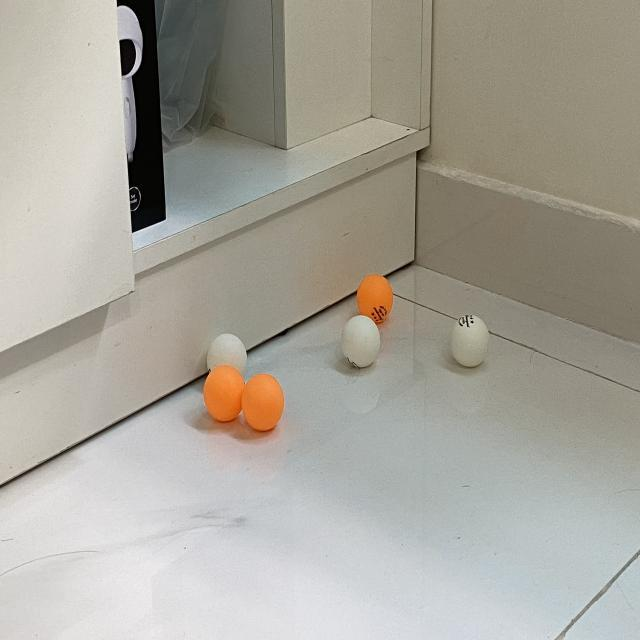ping-pong-ball: (240, 373, 286, 431), (204, 366, 246, 422), (342, 315, 382, 368), (452, 314, 490, 368), (207, 335, 247, 385), (358, 274, 393, 323)
